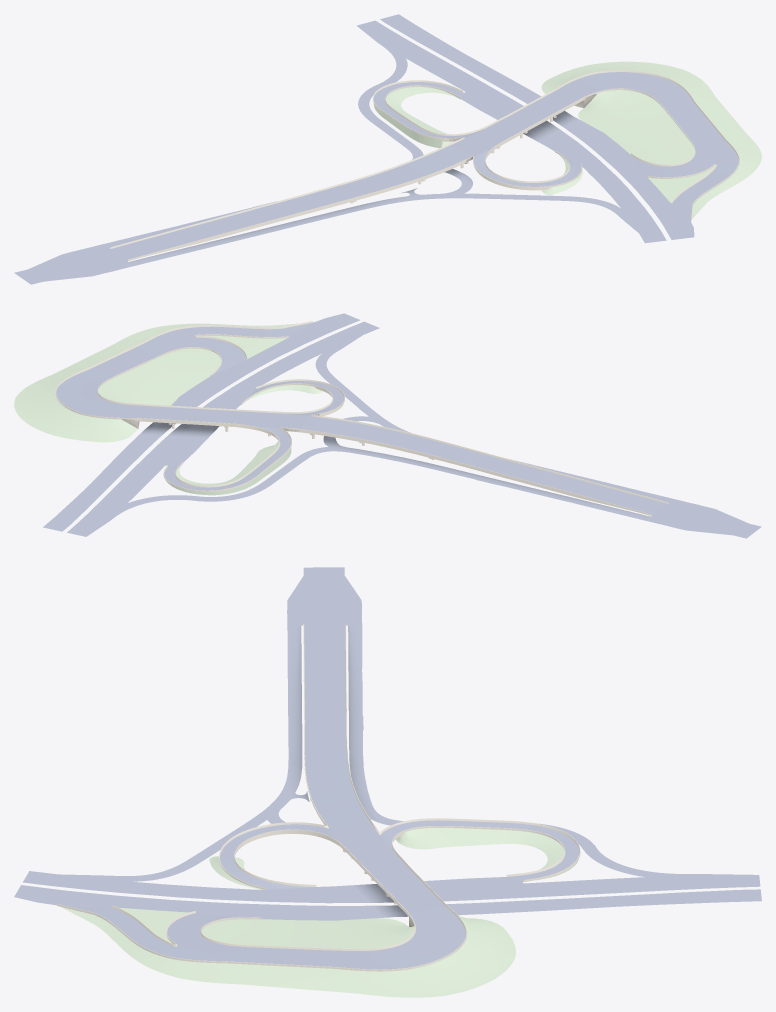
Rendered from VOAD-Tole-Bi.glb.
3 views of the same model, one above another, from view 1: azimuth 30°, elevation 25°; view 2: azimuth 150°, elevation 25°; view 3: azimuth 270°, elevation 25° (orthographic). The views are drawn at different scales.
Visible parts, largest first — view 1: group_2, group_16, group_2.001, group_3; view 2: group_2, group_16, group_2.001, group_3; view 3: group_2, group_16, group_2.001.
Boxes of the visible parts, x1=… form: group_2: x1=14, y1=14, x2=738, y2=284; group_16: x1=386, y1=61, x2=761, y2=219; group_2.001: x1=110, y1=70, x2=739, y2=261; group_3: x1=373, y1=103, x2=442, y2=148; group_2: x1=43, y1=313, x2=761, y2=538; group_16: x1=14, y1=323, x2=323, y2=485; group_2.001: x1=55, y1=321, x2=668, y2=515; group_3: x1=166, y1=447, x2=291, y2=495; group_2: x1=14, y1=567, x2=761, y2=969; group_16: x1=60, y1=828, x2=564, y2=997; group_2.001: x1=57, y1=624, x2=580, y2=971.
Size of the model in its own units: 513 by 8 by 376.
3 materials, 2 textured.
